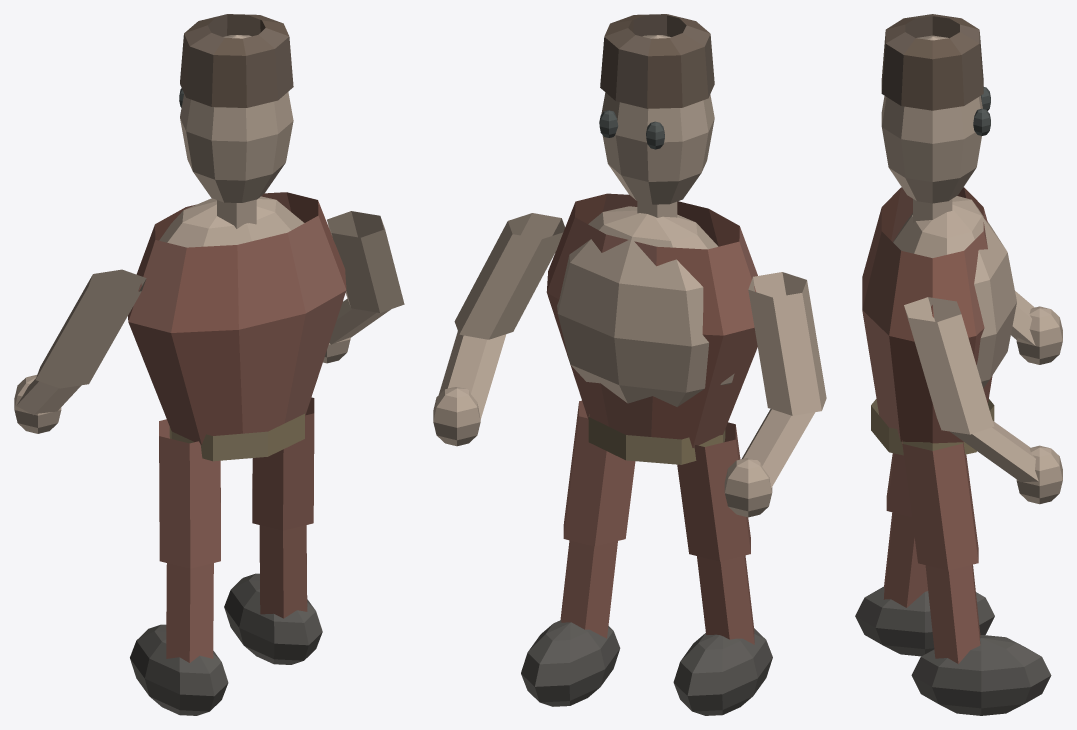
The model's file is barbaro.gltf.
3 renders of one model, left to right at view 1: azimuth 30°, elevation 25°; view 2: azimuth 150°, elevation 25°; view 3: azimuth 270°, elevation 25°, orthographic. The views are drawn at different scales.
Parts seen in each view (by area): view 1: barbaro; view 2: barbaro; view 3: barbaro.
Boxes of the visible parts, box(x1,y1,x2,y2) form: barbaro: box(14, 14, 404, 715); barbaro: box(433, 14, 826, 715); barbaro: box(855, 14, 1062, 715).
Size of the model in its own units: 1.01 by 1.75 by 0.5048.
